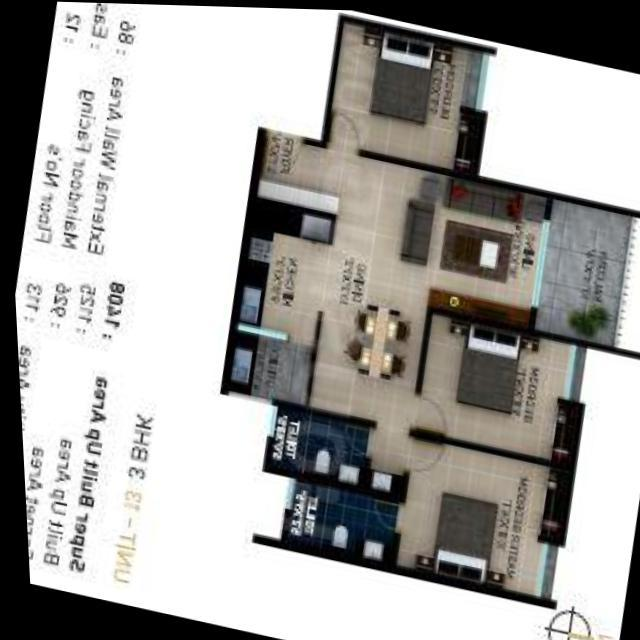Balcony-Sitout: (530, 196, 629, 345)
Bedroom: (322, 17, 483, 171), (408, 308, 571, 458)
Bedroom with Toilet: (279, 431, 552, 596)
Dining: (337, 292, 411, 387)
Enterance-Foyer: (254, 131, 387, 224)
Kitchen: (234, 200, 331, 341)
Living: (368, 161, 544, 326)
Toilet: (283, 479, 391, 561), (264, 405, 367, 486)
Utility: (225, 328, 309, 406)
